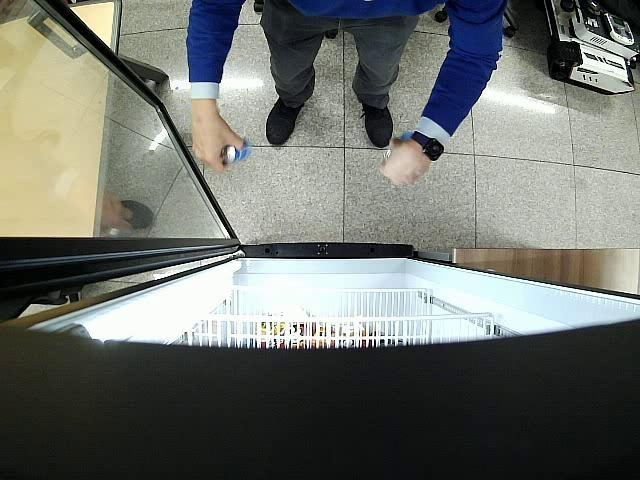15_letsbe: (223, 142, 251, 166)
